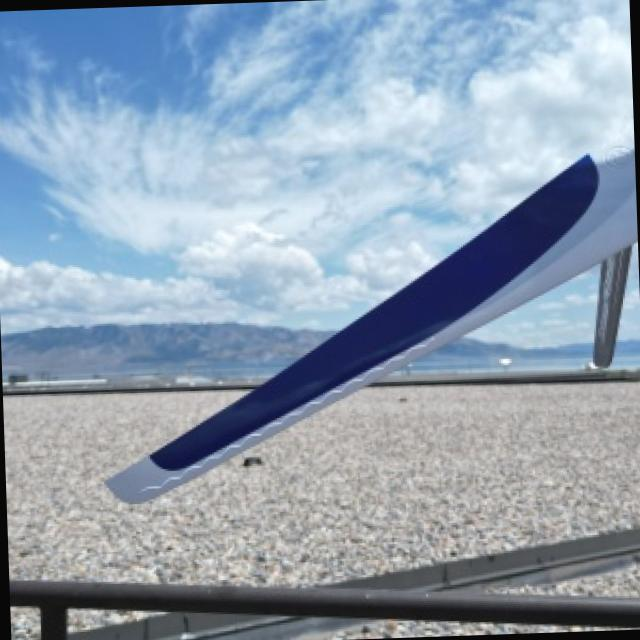healthy: (110, 149, 633, 498)
